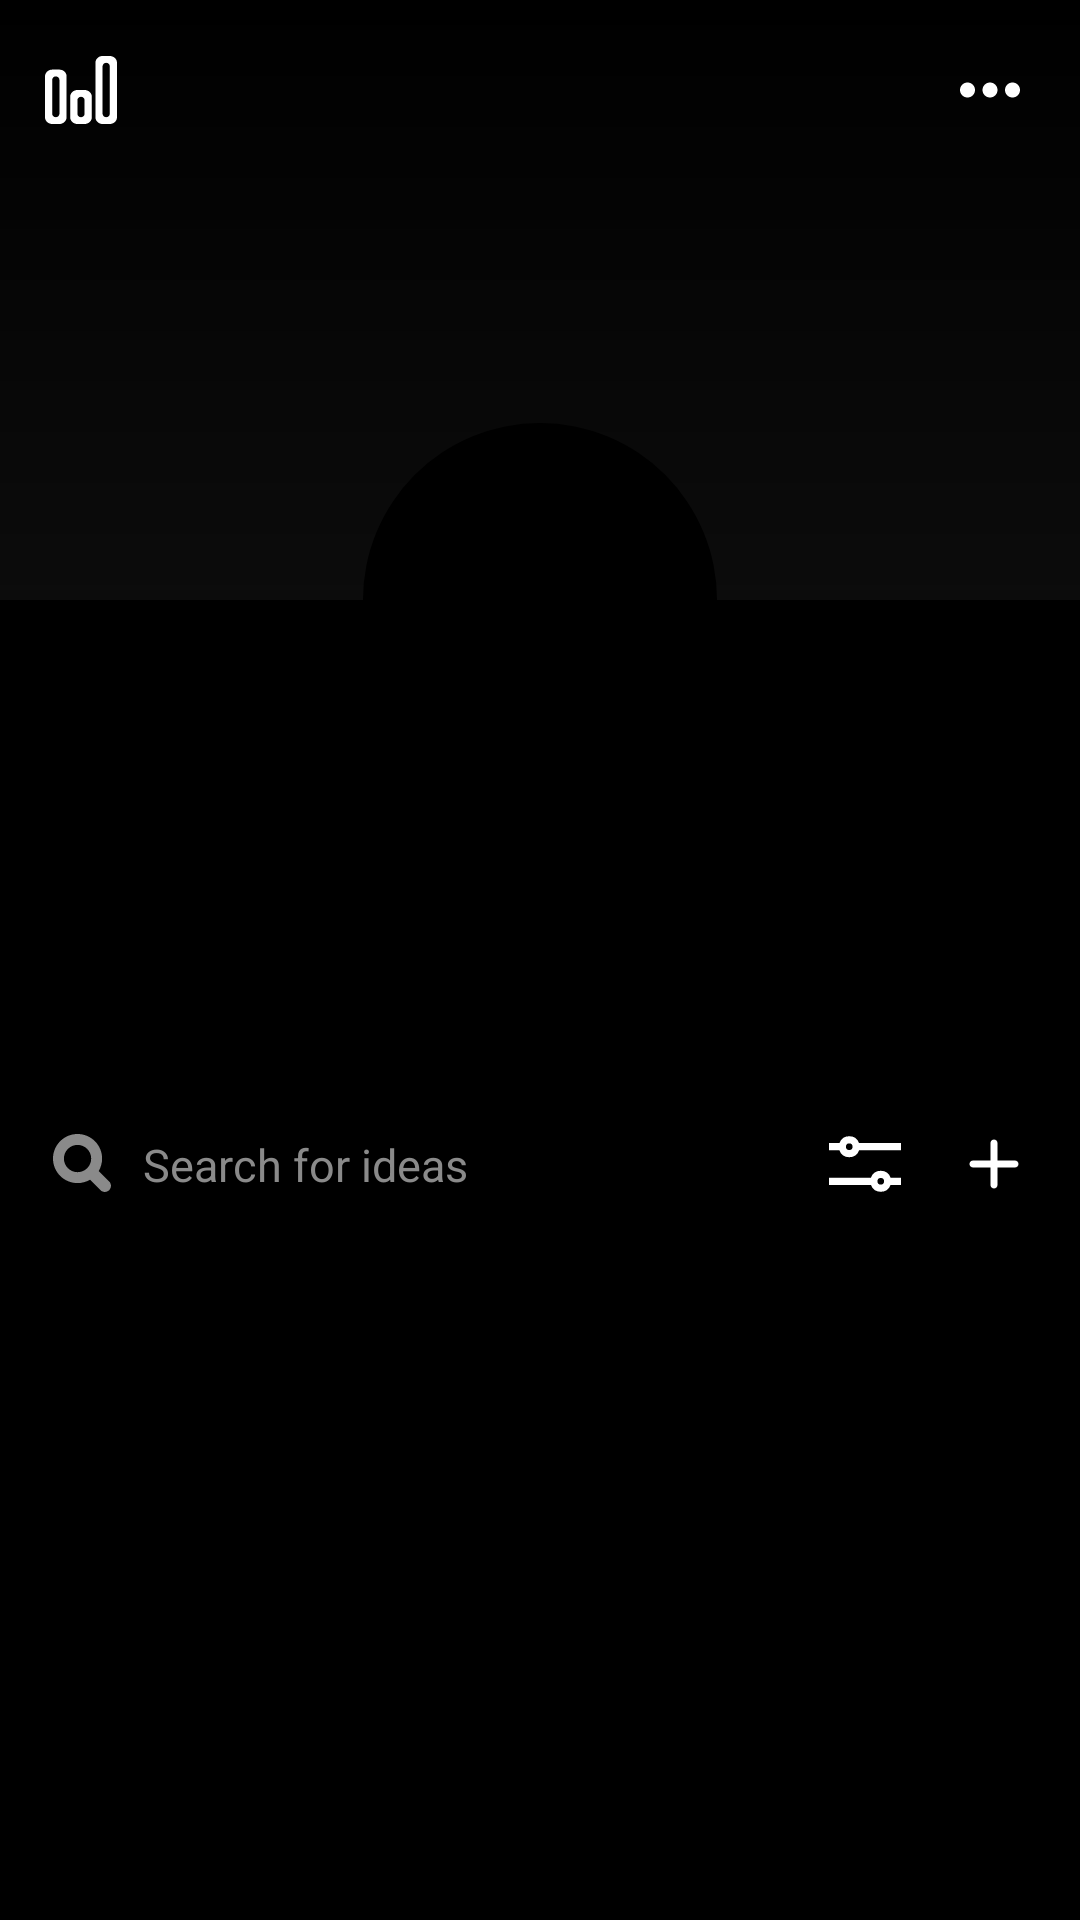

Named icons in this screenshot (1080px×1920px) and their centers, point (x, y):
add: point (994, 1164)
more horiz: point (990, 90)
settings: point (865, 1164)
stats: point (81, 90)
